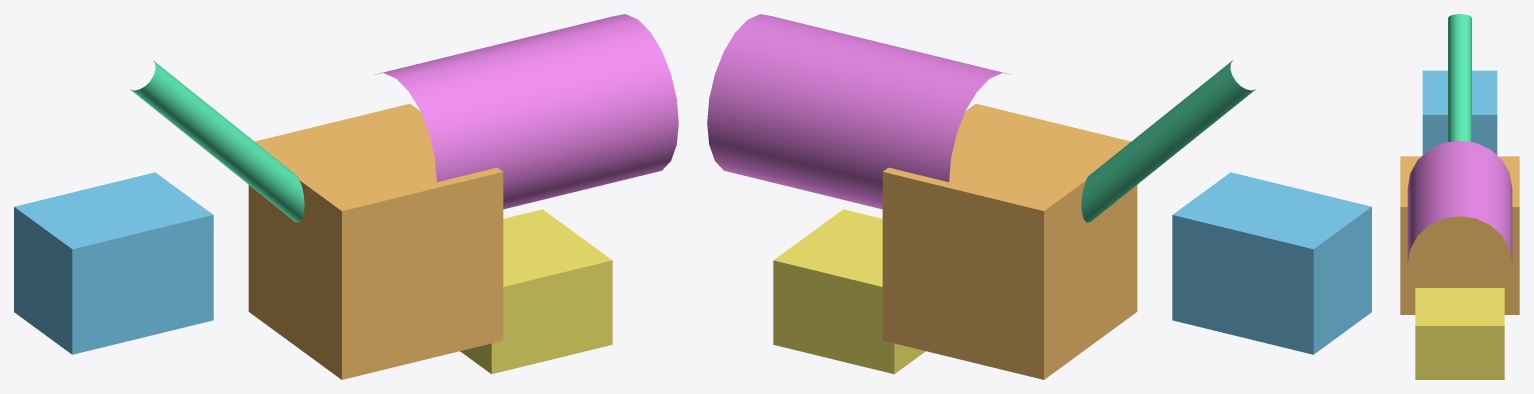
File: compiler_design.glb
3 renders of one model, left to right at view 1: azimuth 30°, elevation 25°; view 2: azimuth 150°, elevation 25°; view 3: azimuth 270°, elevation 25°, orthographic. The views are drawn at different scales.
Parts seen in each view (by area): view 1: IntermediateTACCore, OptimizerPipelineChamber, LexerTokenizerCore, CodeGeneratorEmitter, SyntaxParseTreeBranch; view 2: IntermediateTACCore, OptimizerPipelineChamber, LexerTokenizerCore, CodeGeneratorEmitter, SyntaxParseTreeBranch; view 3: IntermediateTACCore, CodeGeneratorEmitter, OptimizerPipelineChamber, LexerTokenizerCore, SyntaxParseTreeBranch.
Boxes of the visible parts, box(x1,y1,x2,y2) form: IntermediateTACCore: box(248, 103, 503, 379); OptimizerPipelineChamber: box(375, 14, 678, 209); LexerTokenizerCore: box(14, 172, 213, 354); CodeGeneratorEmitter: box(460, 209, 612, 374); SyntaxParseTreeBranch: box(130, 60, 304, 222); IntermediateTACCore: box(882, 103, 1137, 379); OptimizerPipelineChamber: box(707, 14, 1010, 209); LexerTokenizerCore: box(1172, 172, 1371, 354); CodeGeneratorEmitter: box(773, 209, 925, 374); SyntaxParseTreeBranch: box(1081, 60, 1255, 222); IntermediateTACCore: box(1400, 156, 1519, 314); CodeGeneratorEmitter: box(1415, 288, 1504, 379); OptimizerPipelineChamber: box(1407, 140, 1512, 262); LexerTokenizerCore: box(1422, 70, 1497, 155); SyntaxParseTreeBranch: box(1448, 14, 1471, 142).
Size of the model in its own units: 2.95 by 1.72 by 0.8.
